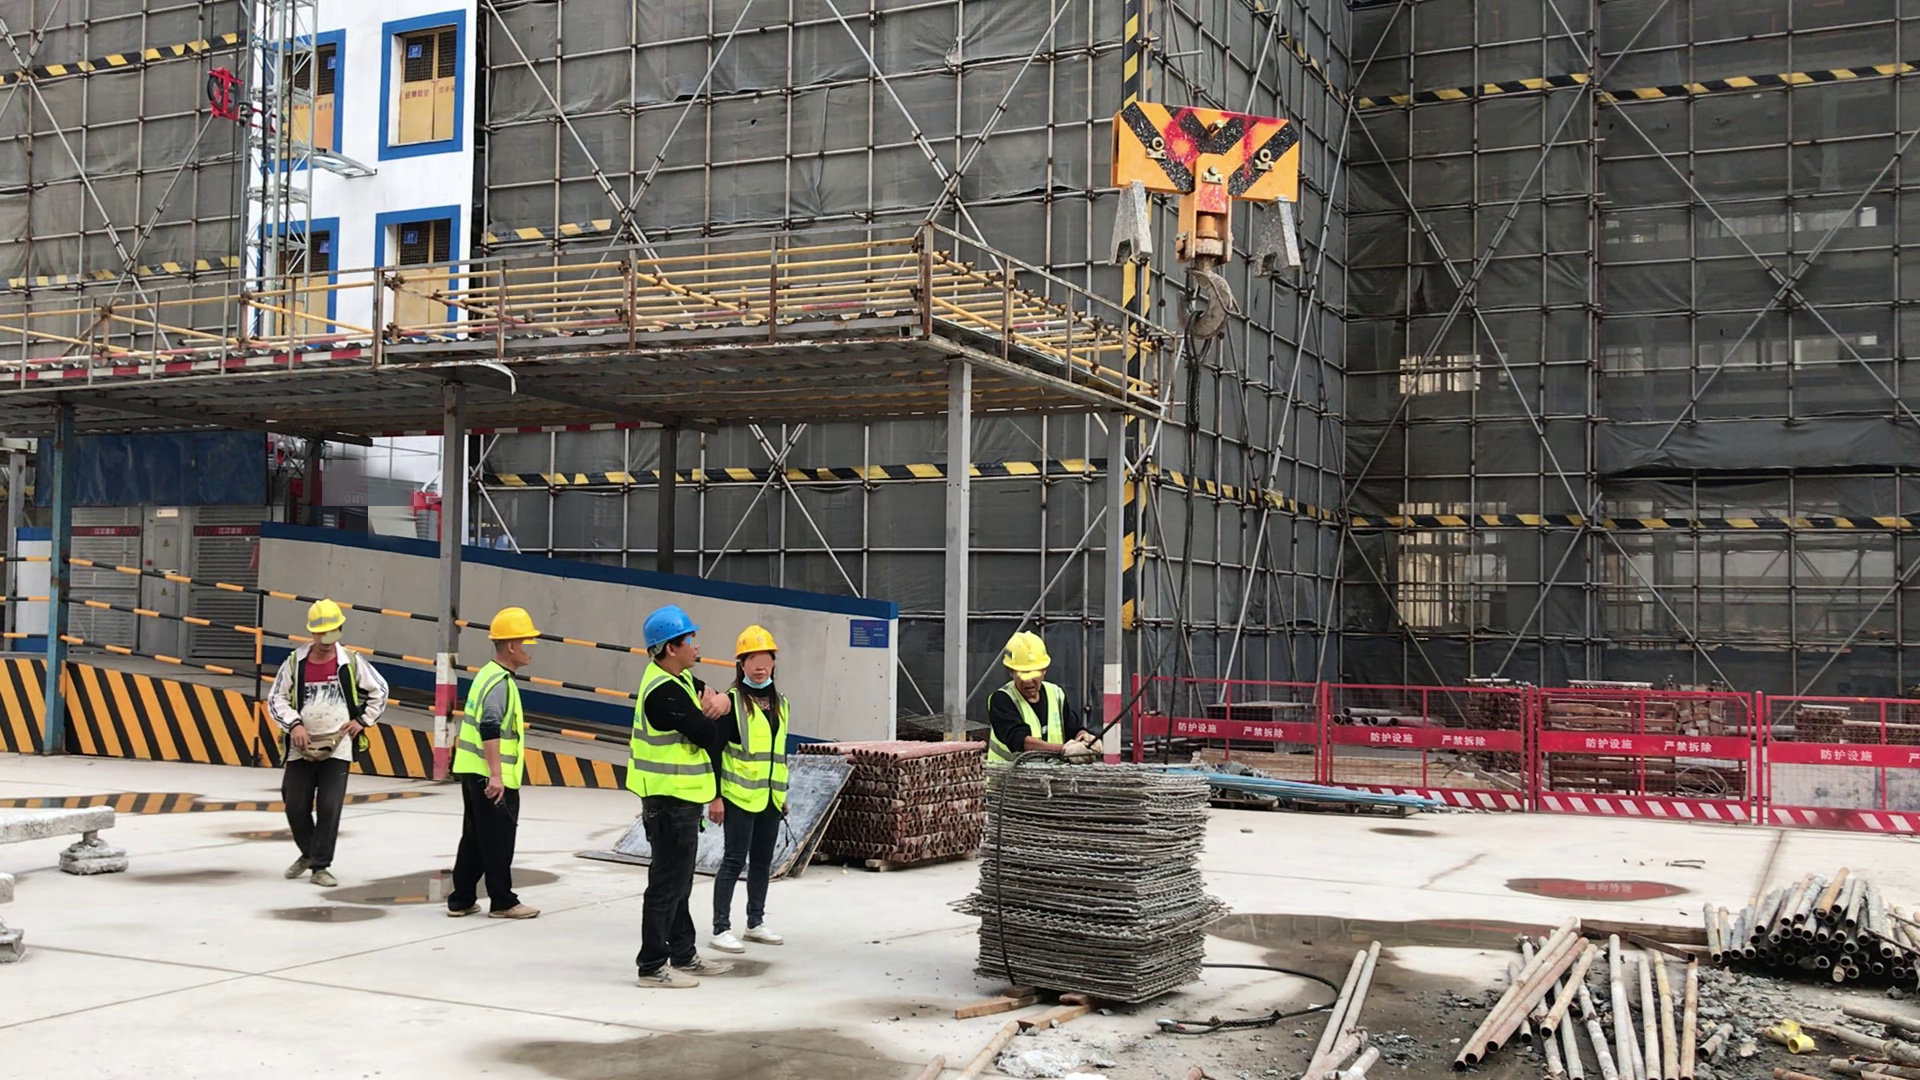helmet: (637, 604, 697, 647), (1001, 628, 1051, 678), (487, 605, 540, 640), (731, 625, 780, 662), (305, 597, 345, 633)
person: (624, 600, 742, 991), (269, 596, 388, 891), (449, 604, 545, 923), (707, 621, 793, 955), (981, 625, 1104, 778)
vest: (623, 657, 717, 805), (717, 683, 789, 819), (460, 661, 527, 798), (977, 677, 1069, 766)
